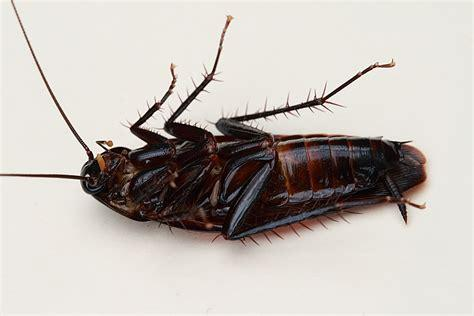cockroach: (65, 97, 432, 252)
